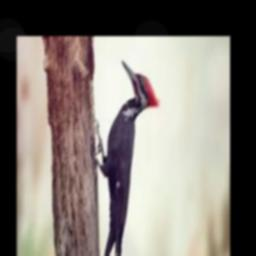Woodpecker: (94, 59, 159, 256)
